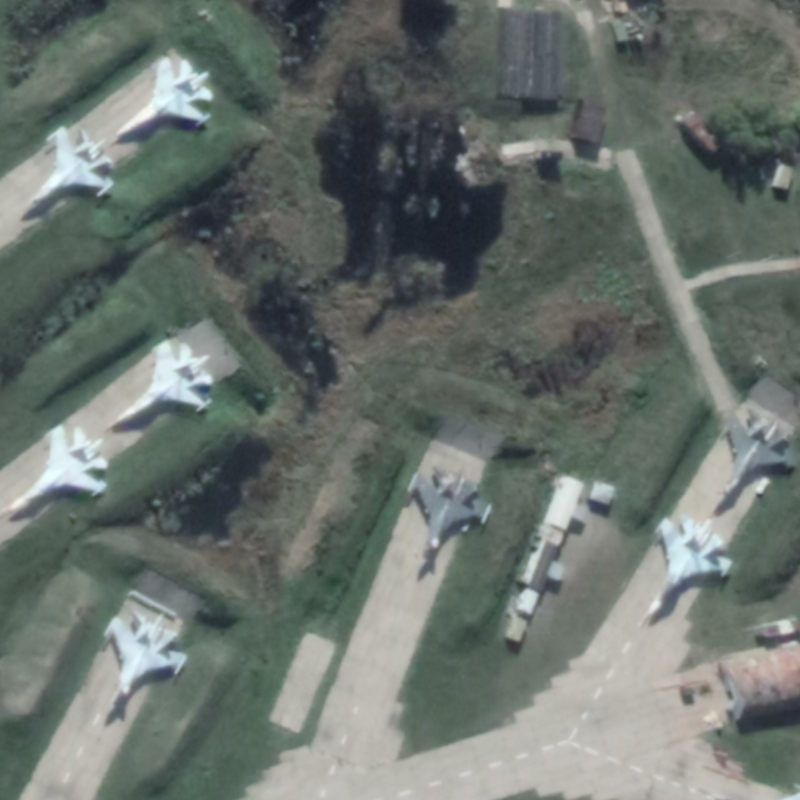A1: (639, 511, 737, 632), (101, 335, 218, 433), (706, 403, 800, 520), (403, 464, 496, 582), (99, 605, 191, 723), (1, 423, 111, 520), (18, 123, 116, 222), (111, 53, 215, 144)
